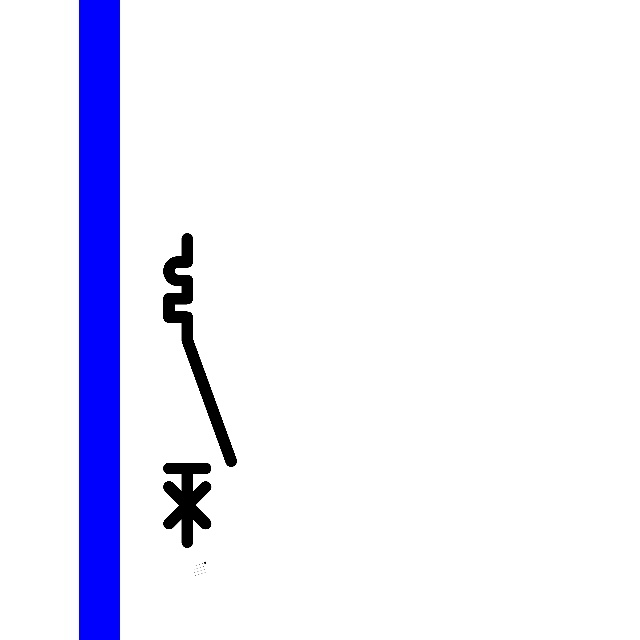interruptor_termomagnetico: (161, 231, 239, 550)
